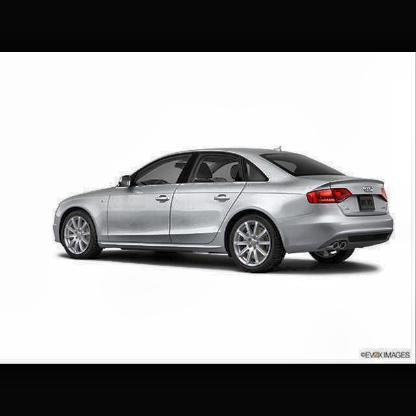Audi S4 Sedan 2012: (55, 148, 398, 282)
